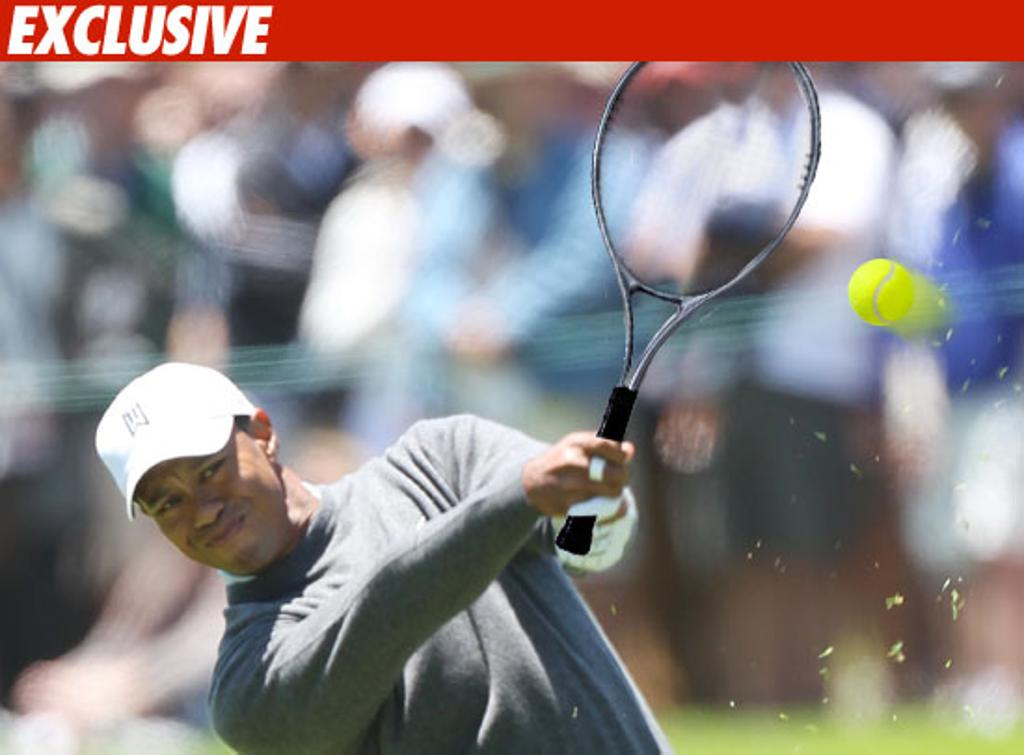face: (132, 432, 280, 578)
